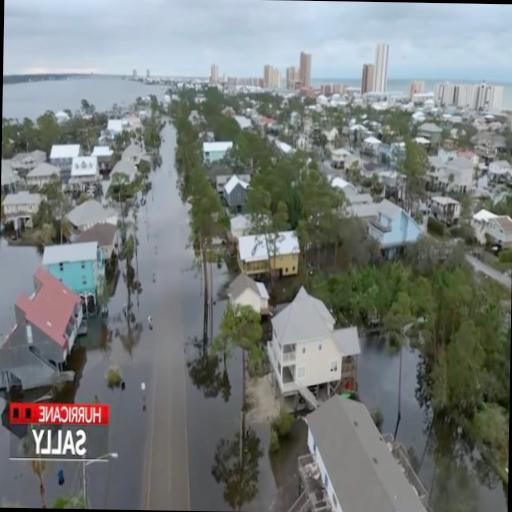flood: (0, 125, 303, 512), (358, 340, 435, 493), (2, 78, 163, 121), (0, 240, 40, 337), (463, 451, 508, 512)
house: (304, 396, 425, 512), (265, 288, 355, 400), (9, 268, 82, 363), (40, 240, 106, 292), (236, 230, 296, 276), (369, 199, 419, 242), (227, 274, 269, 312), (73, 223, 120, 254), (65, 201, 115, 230), (448, 156, 474, 192), (48, 143, 80, 172), (2, 192, 40, 216), (108, 158, 138, 185), (26, 162, 57, 188), (224, 175, 248, 205), (487, 214, 512, 242), (70, 158, 98, 182), (1, 164, 21, 196), (202, 142, 230, 162), (122, 144, 142, 164), (490, 158, 510, 172), (330, 150, 348, 164), (364, 136, 379, 152), (509, 161, 512, 179)
